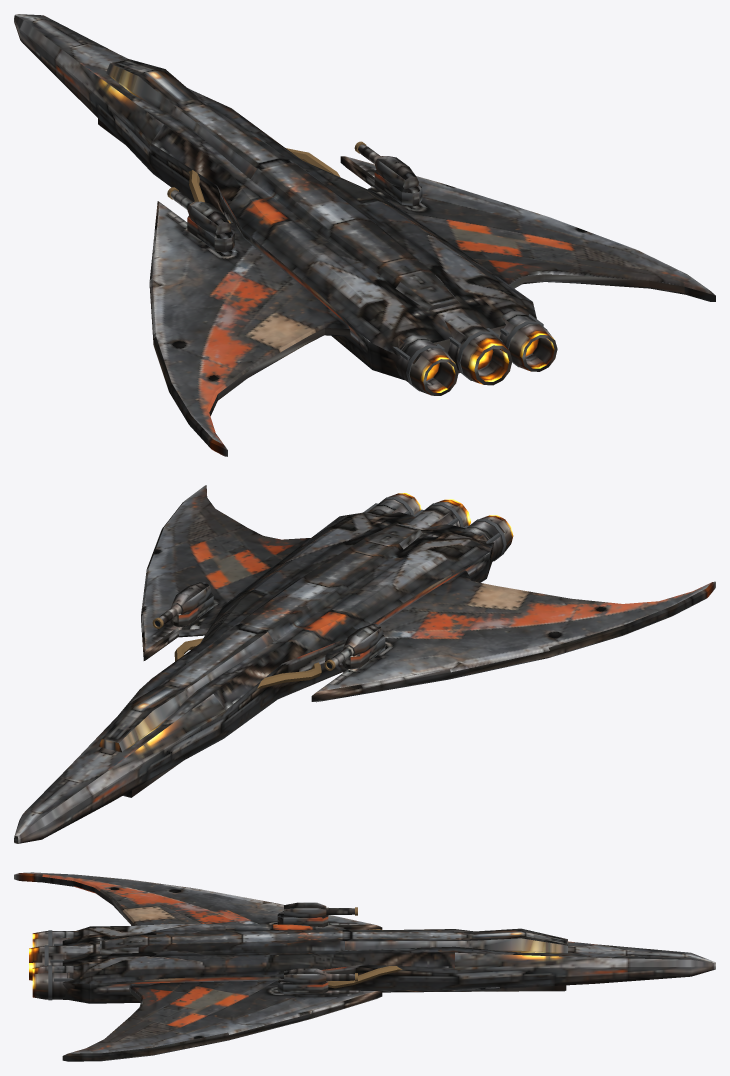
The model's file is pirate-corsair.glb.
3 renders of one model, top to bottom at view 1: azimuth 30°, elevation 25°; view 2: azimuth 150°, elevation 25°; view 3: azimuth 270°, elevation 25°, orthographic. The views are drawn at different scales.
Visible parts, largest first — view 1: Reference artwork | salvaged steel, hazard paint and machine, Structural frames | gunmetal, Oxidized bronze collars; view 2: Reference artwork | salvaged steel, hazard paint and machine, Oxidized bronze collars, Ventral armor | dedicated bottom-view reference, Structural frames | gunmetal; view 3: Reference artwork | salvaged steel, hazard paint and machine, Ventral armor | dedicated bottom-view reference, Oxidized bronze collars, Structural frames | gunmetal.
Boxes of the visible parts, x1,y1,x2,y2 form: Reference artwork | salvaged steel, hazard paint and machine: (14, 14, 715, 456); Structural frames | gunmetal: (393, 314, 547, 391); Oxidized bronze collars: (167, 141, 366, 223); Reference artwork | salvaged steel, hazard paint and machine: (14, 485, 715, 843); Oxidized bronze collars: (152, 617, 335, 688); Ventral armor | dedicated bottom-view reference: (123, 557, 706, 797); Structural frames | gunmetal: (363, 497, 506, 561); Reference artwork | salvaged steel, hazard paint and machine: (14, 872, 715, 1061); Ventral armor | dedicated bottom-view reference: (67, 886, 565, 1061); Oxidized bronze collars: (328, 907, 402, 988); Structural frames | gunmetal: (44, 930, 73, 1000).
Size of the model in its own units: 12.35 by 1.67 by 19.83.
5 materials, 2 textured.
